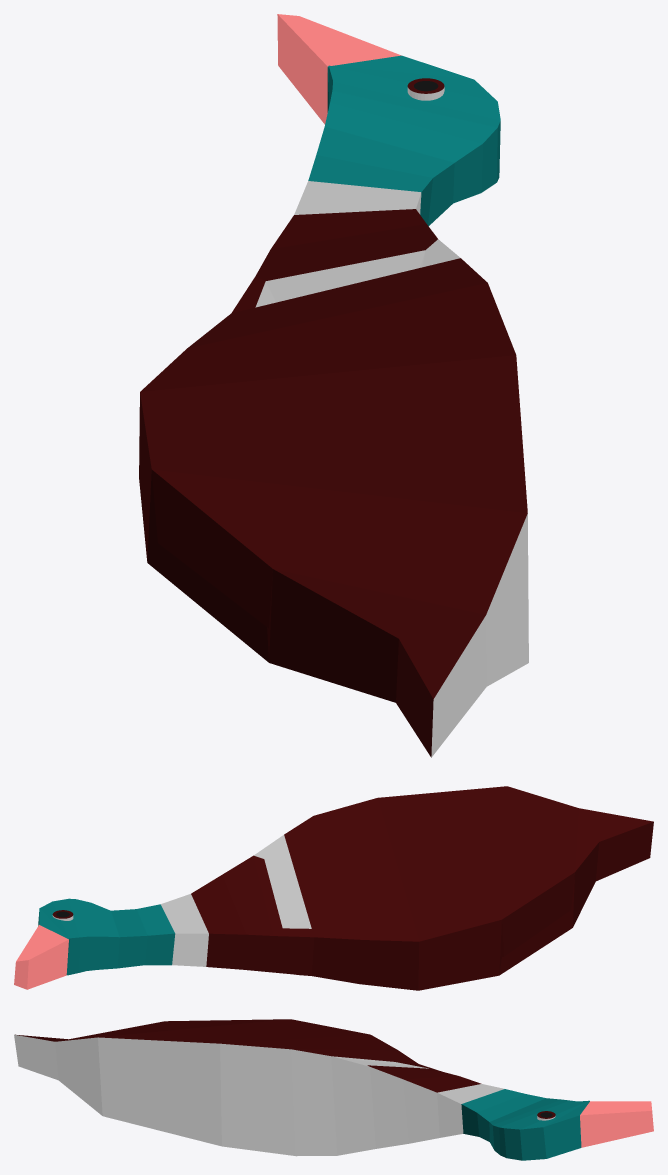
File: firstpartduck2.glb
3 renders of one model, top to bottom at view 1: azimuth 30°, elevation 25°; view 2: azimuth 150°, elevation 25°; view 3: azimuth 270°, elevation 25°, orthographic. The views are drawn at different scales.
Visible parts, largest first — view 1: Plane; view 2: Plane; view 3: Plane.
Boxes of the visible parts, bbox=[...] form: Plane: bbox=[139, 14, 528, 757]; Plane: bbox=[14, 786, 653, 990]; Plane: bbox=[14, 1019, 653, 1160].
Bounding box in the file's own units: 6.66 × 2.35 × 12.7.
